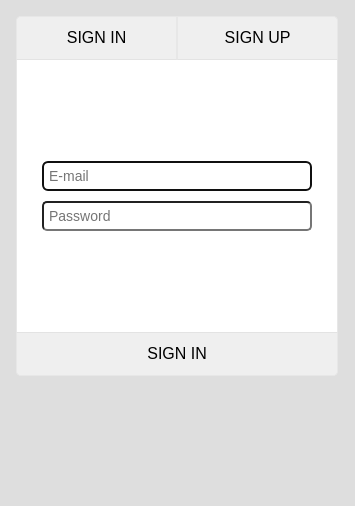
Modal › should render as expected
Expected: the button with test id "modal-tab-sign-in" is shown, 16,16 -> 177,60
Expected: the field with test id "authentication-form-email" is shown, 42,161 -> 312,191
Click the button with test id "modal-tab-sign-up". click: [258, 38]
box: 177,16 -> 338,60
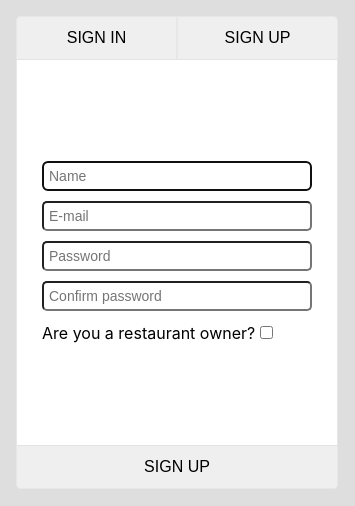
Expected: the field with test id "registration-form-email" is shown, 42,201 -> 312,231
Expected: the password field with test id "registration-form-password" is shown, 42,241 -> 312,271
Expected: the password field with test id "registration-form-confirm-password" is shown, 42,281 -> 312,311
